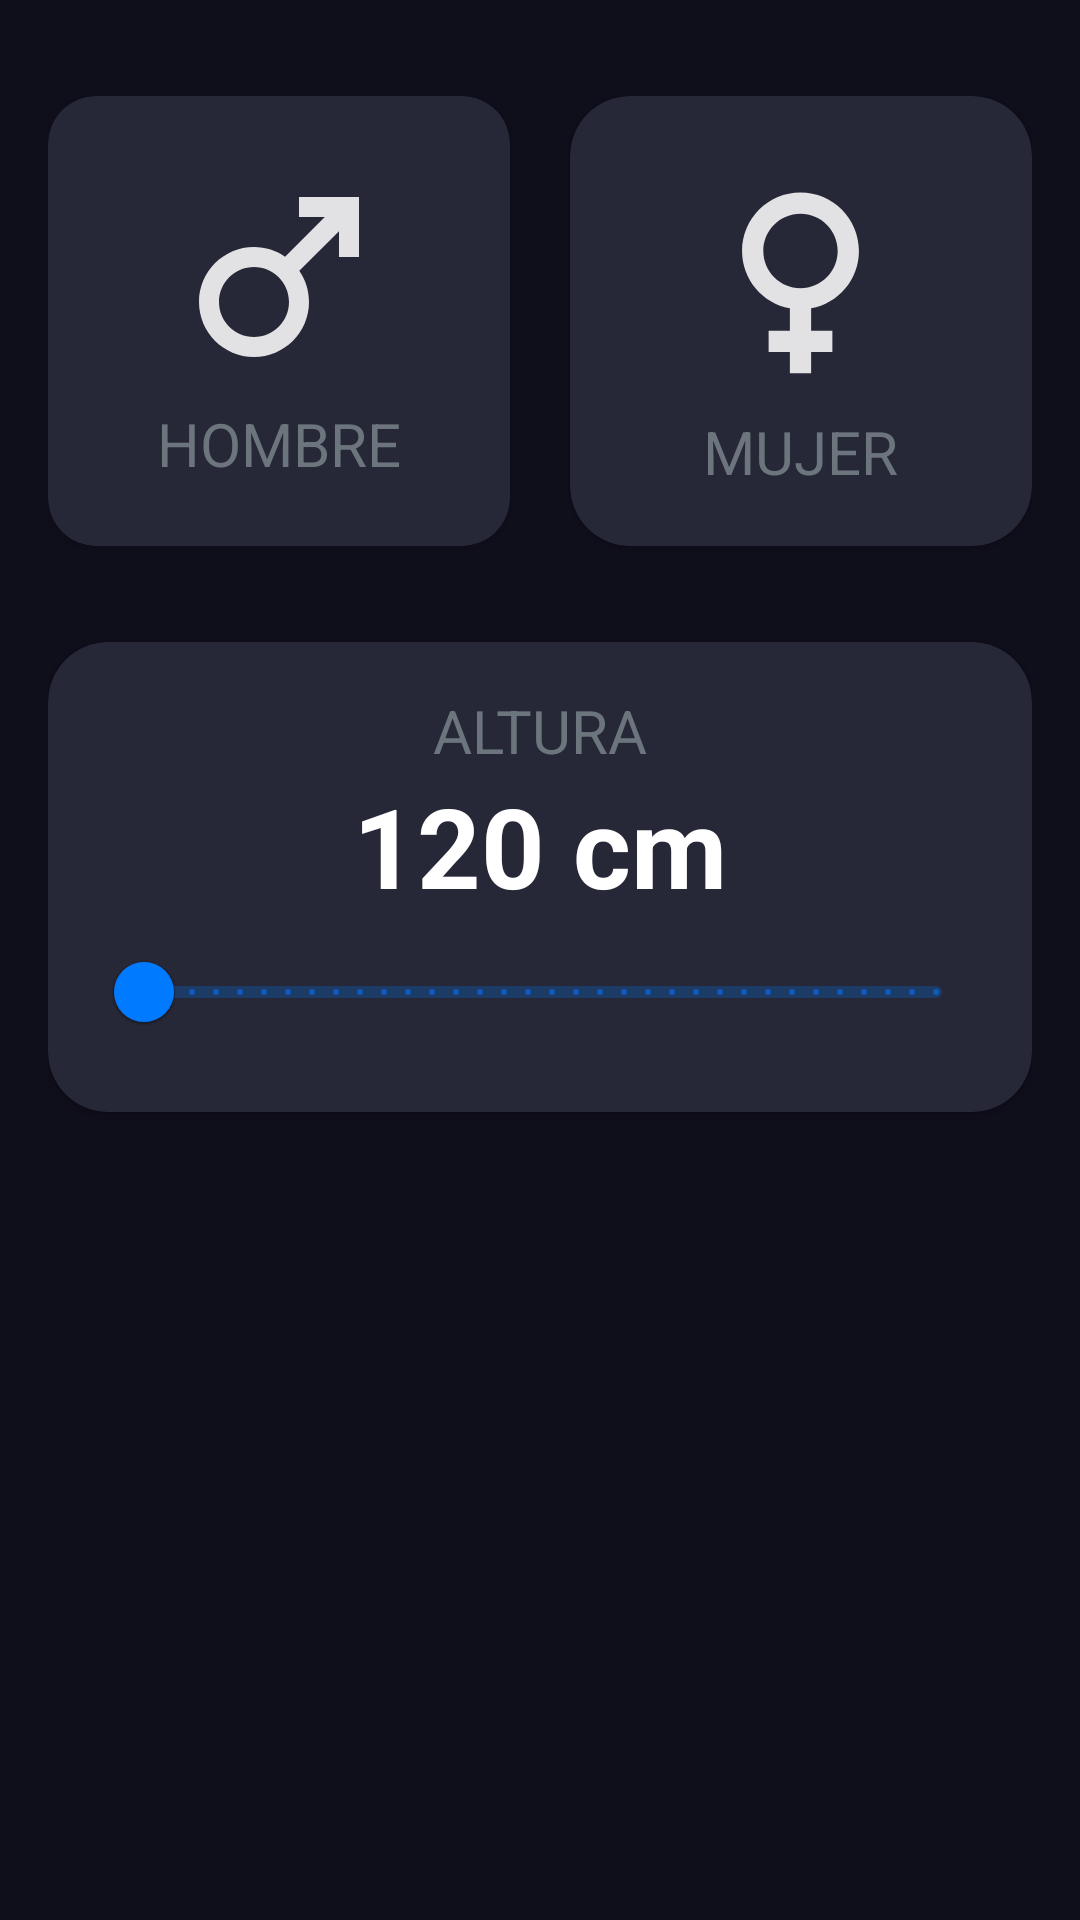

Icon click points for this 1080 x 1920 phone screenshot, format point (x, y):
male: point (279, 277)
